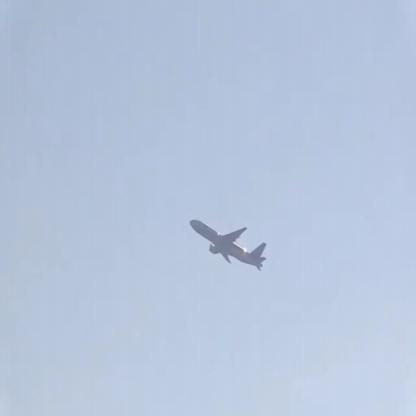CIV_Plane: (187, 208, 269, 272)
